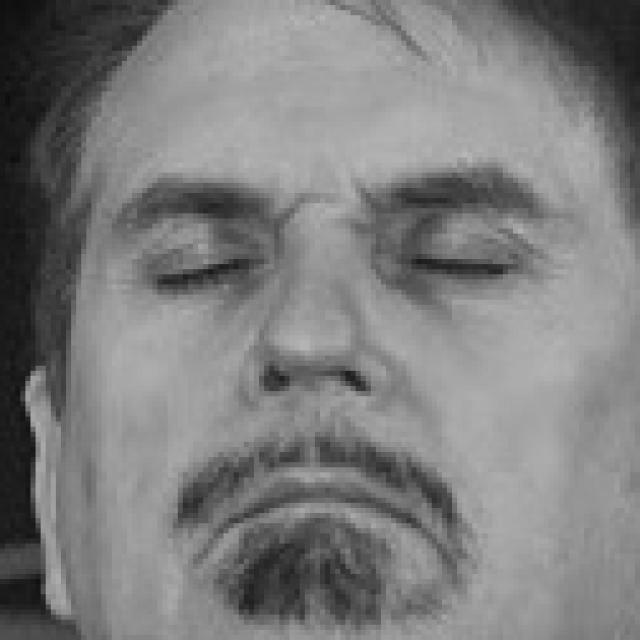real: (73, 96, 607, 600), (130, 191, 554, 310)
